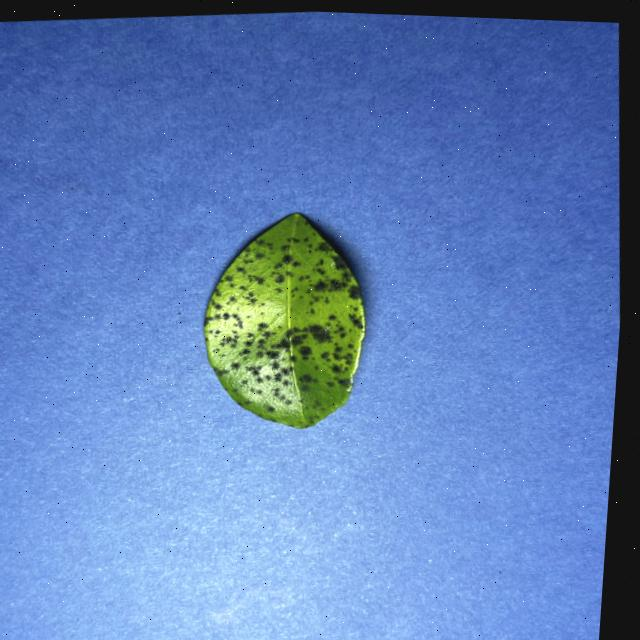sooty_mold: (204, 213, 365, 428)
